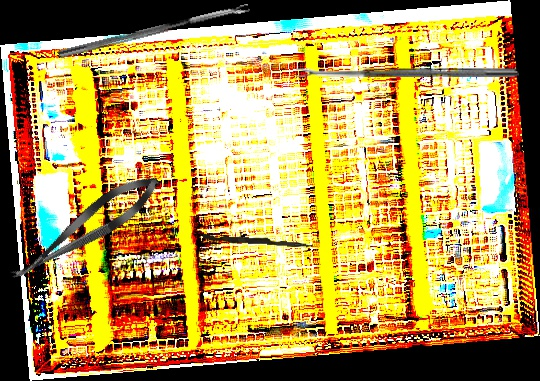Micro Scissor: (3, 165, 167, 292)
Pusher: (202, 234, 314, 248)
Surgical Spoon: (57, 3, 251, 60), (296, 67, 519, 77)
